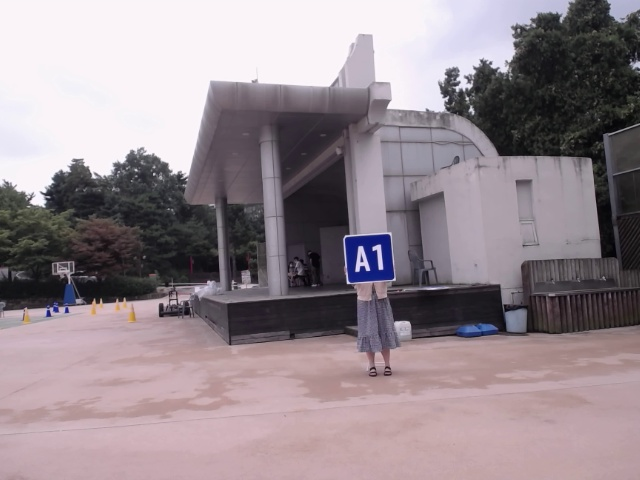delivery_a1: (343, 233, 396, 283)
